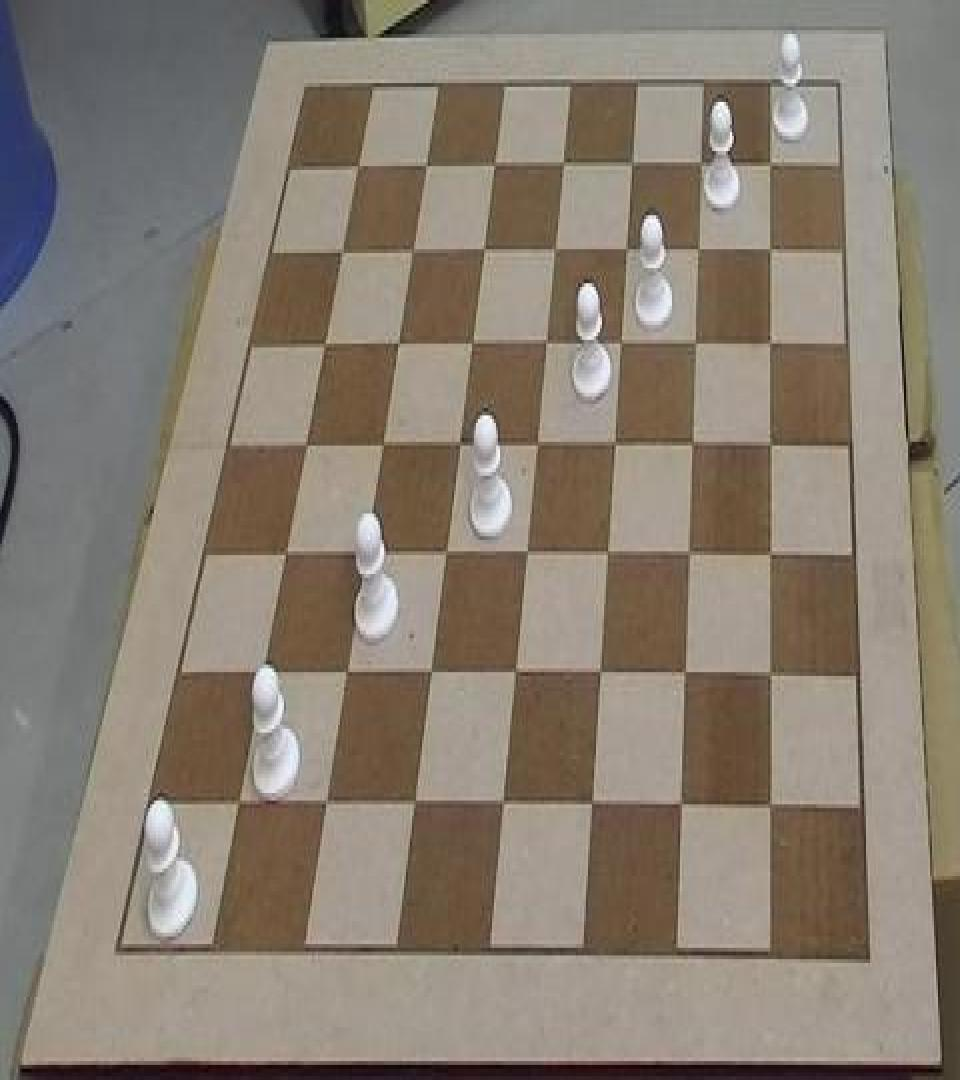xcorner: (312, 330, 332, 369), (760, 147, 780, 185), (691, 149, 711, 187), (621, 149, 641, 187), (552, 149, 572, 187), (483, 151, 503, 189), (414, 151, 434, 189), (345, 151, 365, 189), (760, 234, 780, 272), (688, 234, 708, 272), (616, 236, 636, 274), (544, 236, 564, 274), (472, 236, 492, 274), (401, 236, 421, 274), (329, 238, 349, 276), (761, 326, 781, 364), (685, 328, 705, 366), (610, 328, 630, 366), (535, 328, 555, 366), (461, 328, 481, 366), (386, 328, 406, 366), (761, 428, 781, 466), (682, 428, 702, 466), (604, 428, 624, 466), (526, 428, 546, 466), (448, 428, 468, 466), (371, 430, 391, 468), (294, 430, 314, 468), (761, 538, 781, 576), (679, 538, 699, 576), (597, 538, 617, 576), (516, 538, 536, 576), (435, 538, 455, 576), (354, 538, 374, 576), (273, 538, 293, 576), (761, 659, 781, 697), (675, 659, 695, 697), (590, 659, 610, 697), (504, 659, 524, 697), (420, 657, 440, 695), (335, 657, 355, 695), (251, 657, 271, 695), (761, 791, 781, 829), (671, 789, 691, 827), (581, 789, 601, 827), (492, 789, 512, 827), (403, 789, 423, 827), (315, 789, 335, 827), (227, 787, 247, 825)
